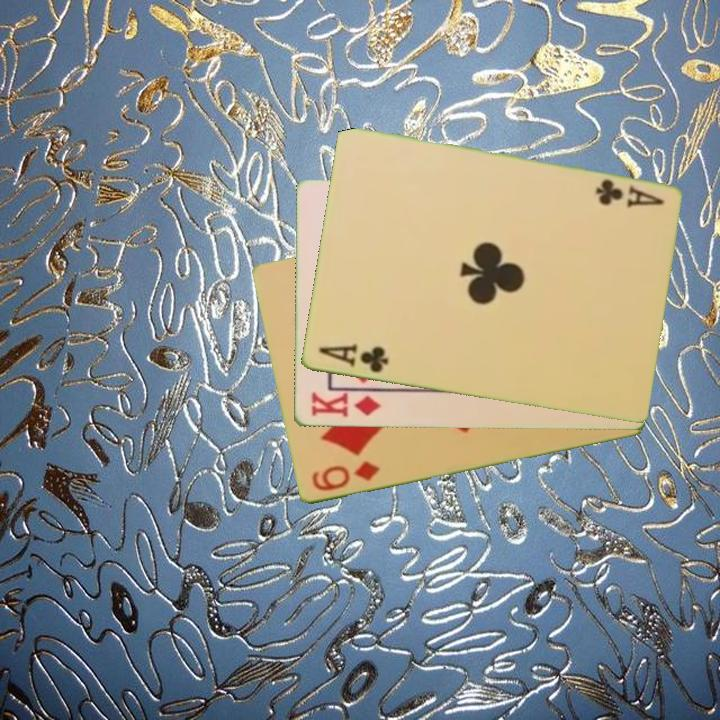6d: (307, 458, 382, 495)
Ac: (314, 341, 391, 376), (591, 176, 667, 210)
Kd: (307, 389, 383, 420)
